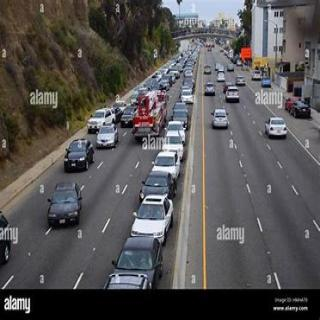Fire_truck: (130, 89, 168, 141)
